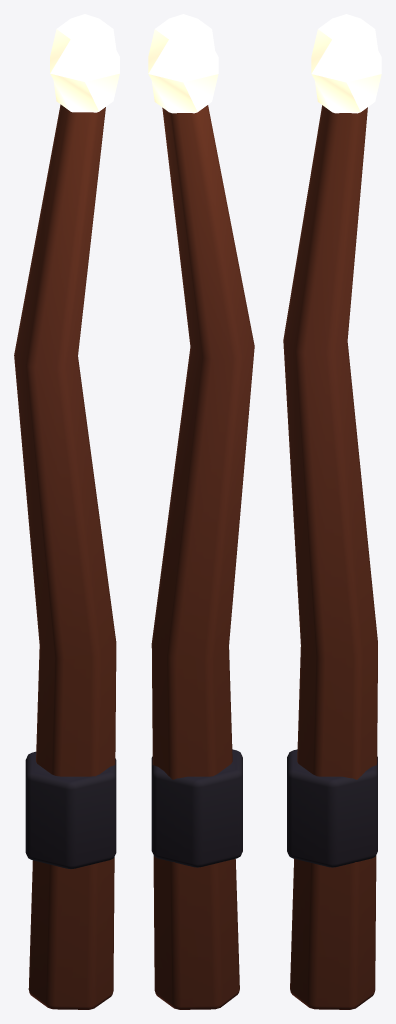
File: yew_wand.glb
3 renders of one model, left to right at view 1: azimuth 30°, elevation 25°; view 2: azimuth 210°, elevation 25°; view 3: azimuth 330°, elevation 25°, orthographic.
Parts seen in each view (by area): view 1: yew_wand, yew_wand_glow; view 2: yew_wand, yew_wand_glow; view 3: yew_wand, yew_wand_glow.
Boxes of the visible parts, x1,y1,x2,y2 form: yew_wand: [14, 104, 116, 1009]; yew_wand_glow: [50, 14, 119, 112]; yew_wand: [151, 105, 254, 1009]; yew_wand_glow: [148, 14, 218, 113]; yew_wand: [283, 105, 377, 1009]; yew_wand_glow: [311, 14, 381, 113].
Size of the model in its own units: 0.1364 by 1.34 by 0.1126.
